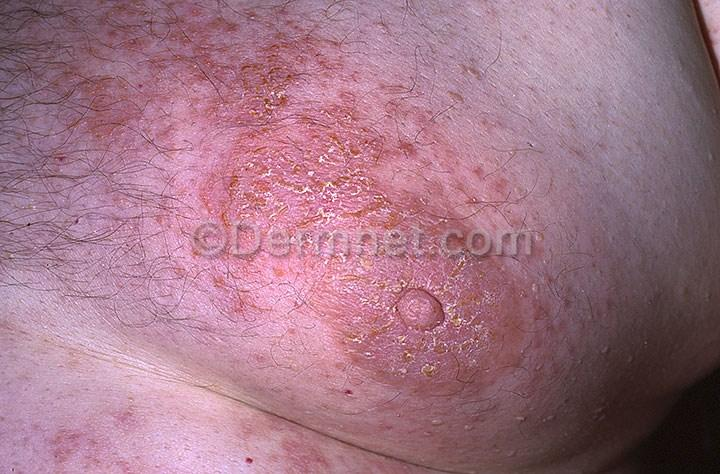Eczema: (295, 201, 576, 416), (197, 56, 444, 268), (63, 0, 305, 128), (168, 248, 304, 344), (220, 407, 381, 474), (48, 396, 155, 474)
